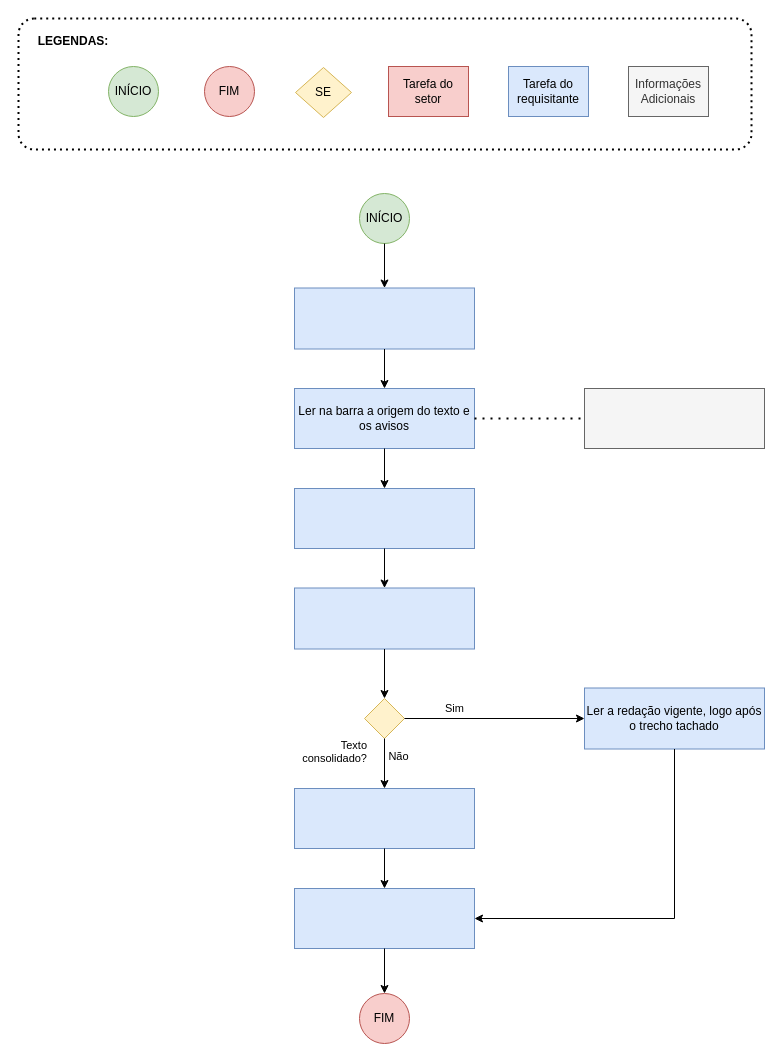
The diagram is 782 pixels wide and 1061 high, and some of its shapes have lost their labels. Each missing label, with the centre of its shape:
Abrir a norma alteradora para ler a redação nova: [384,818]
Abrir as normas citadas pelos links do texto: [384,918]
Clicar em Ir ao texto integral, na ficha da norma: [384,318]
Ir ao artigo pelo campo Ir ao art.: [384,518]
Ler sob o caput a anotação de vigência do artigo: [384,618]
Texto por OCR: conferir números no PDF oficial: [674,418]
